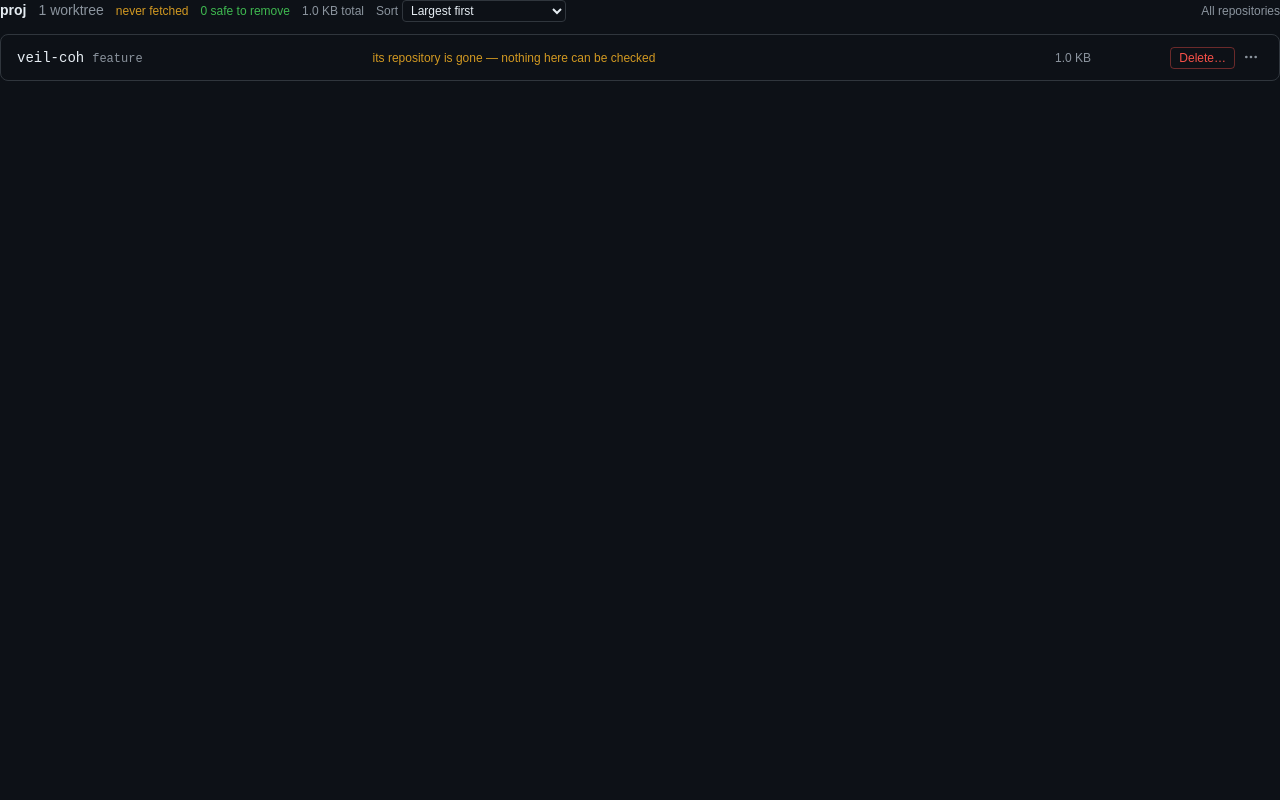
it: WorktreesPage › orphaned worktrees › does not delete anything on the row's own click
Click the button "Delete…" at (1203, 58), box [1170,46,1235,68]
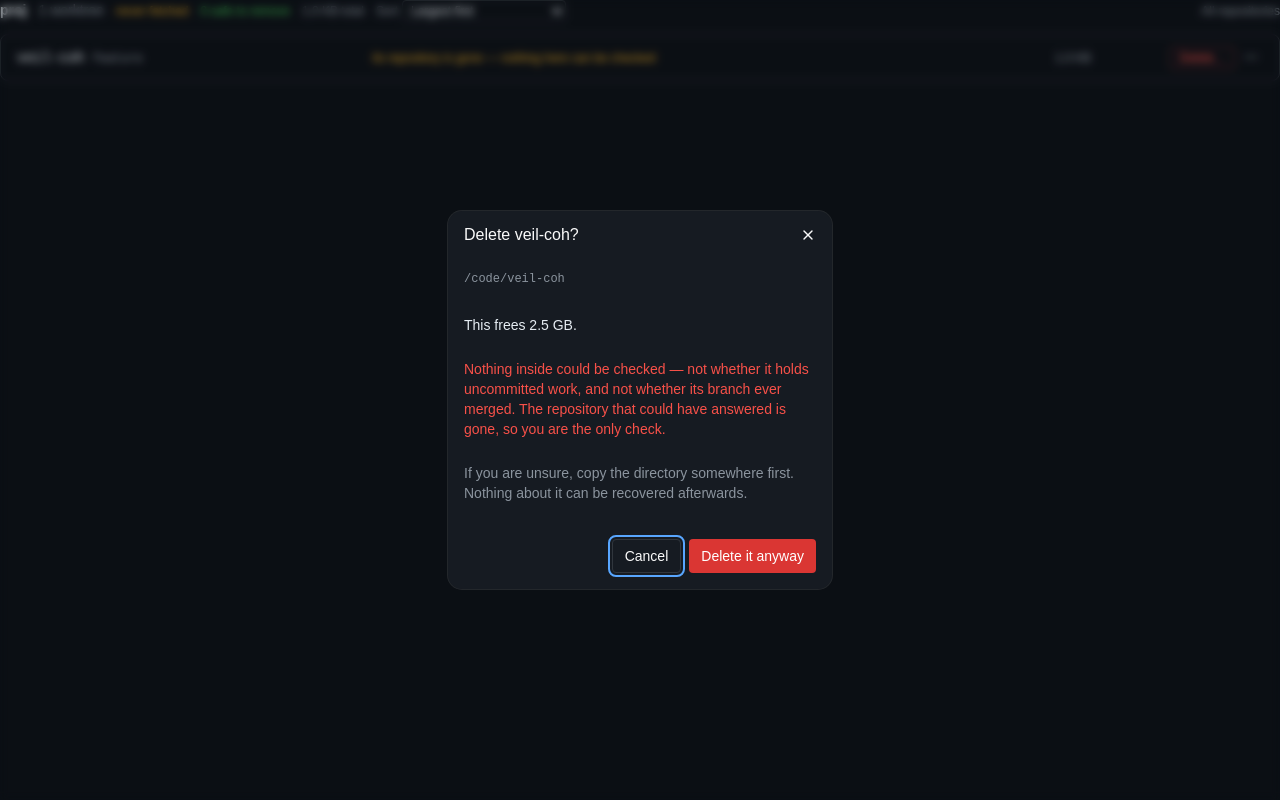
Now the dialog is shown, box [448,211,832,589]
